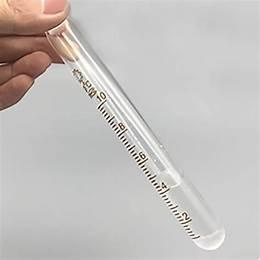Test tube: (40, 32, 225, 254)
